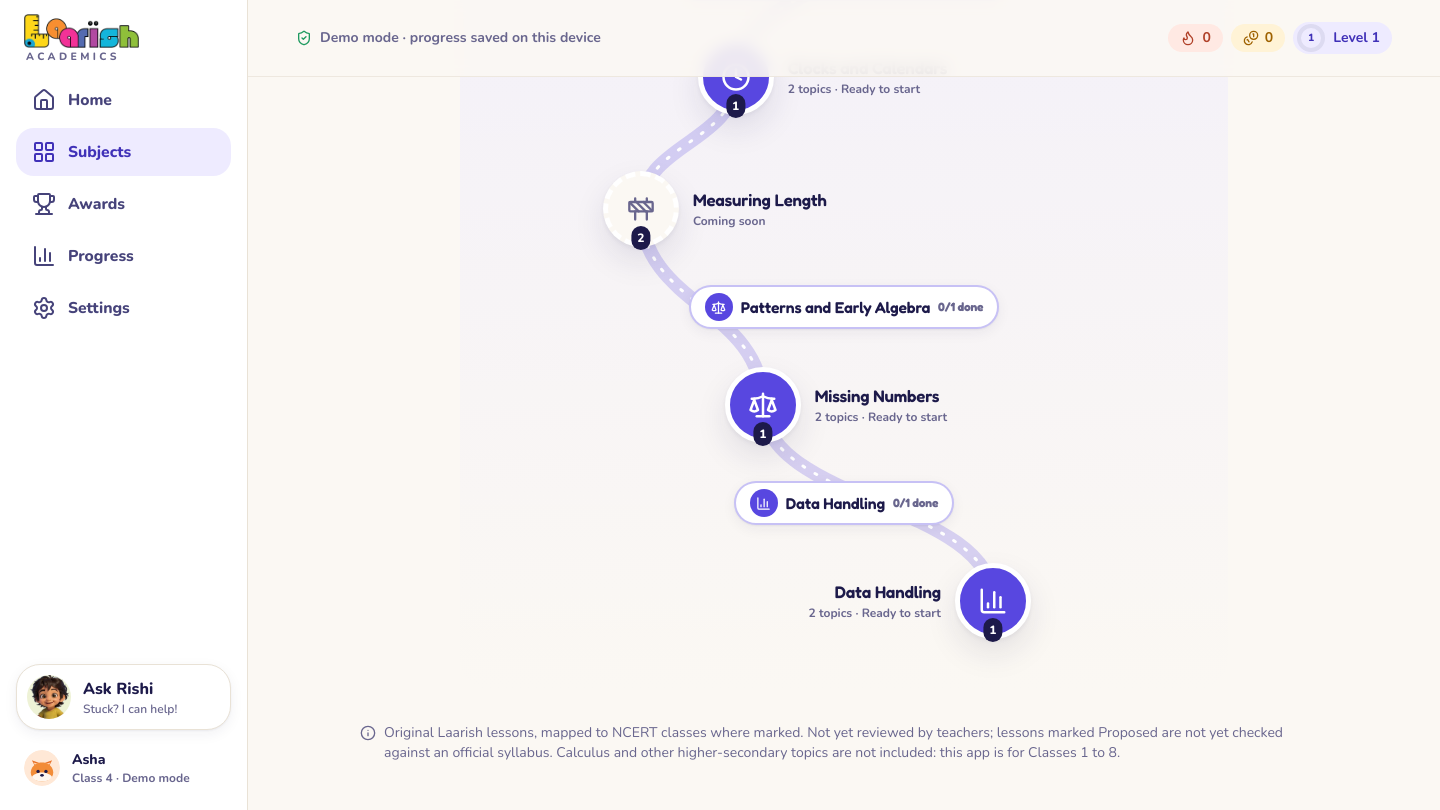
Test: mathematics: subject overview → class roadmap → lesson → topic › opens on the learner's class roadmap and goes on to a lesson and a topic
(page scrolled)
Click the button named "lesson 1: missing numbers, 2 topics · ready to start" at (763, 406), box [725,368,801,444]
(page scrolled)
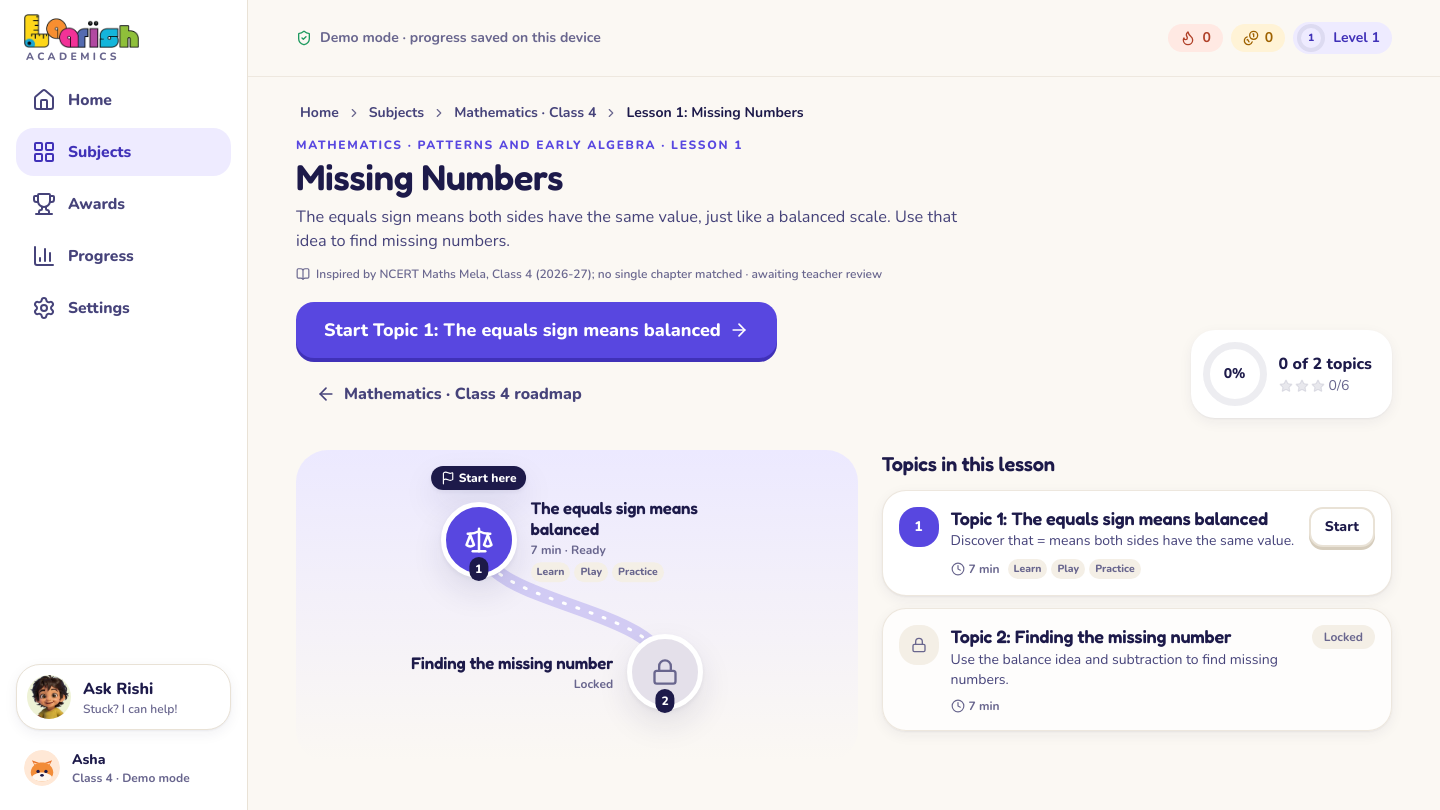
Check: the heading "Missing Numbers" is shown, box [296,155,563,198]
Click the button named "topic 1: the equals sign means balanced" at (479, 540), box [441,502,517,578]
(page scrolled)
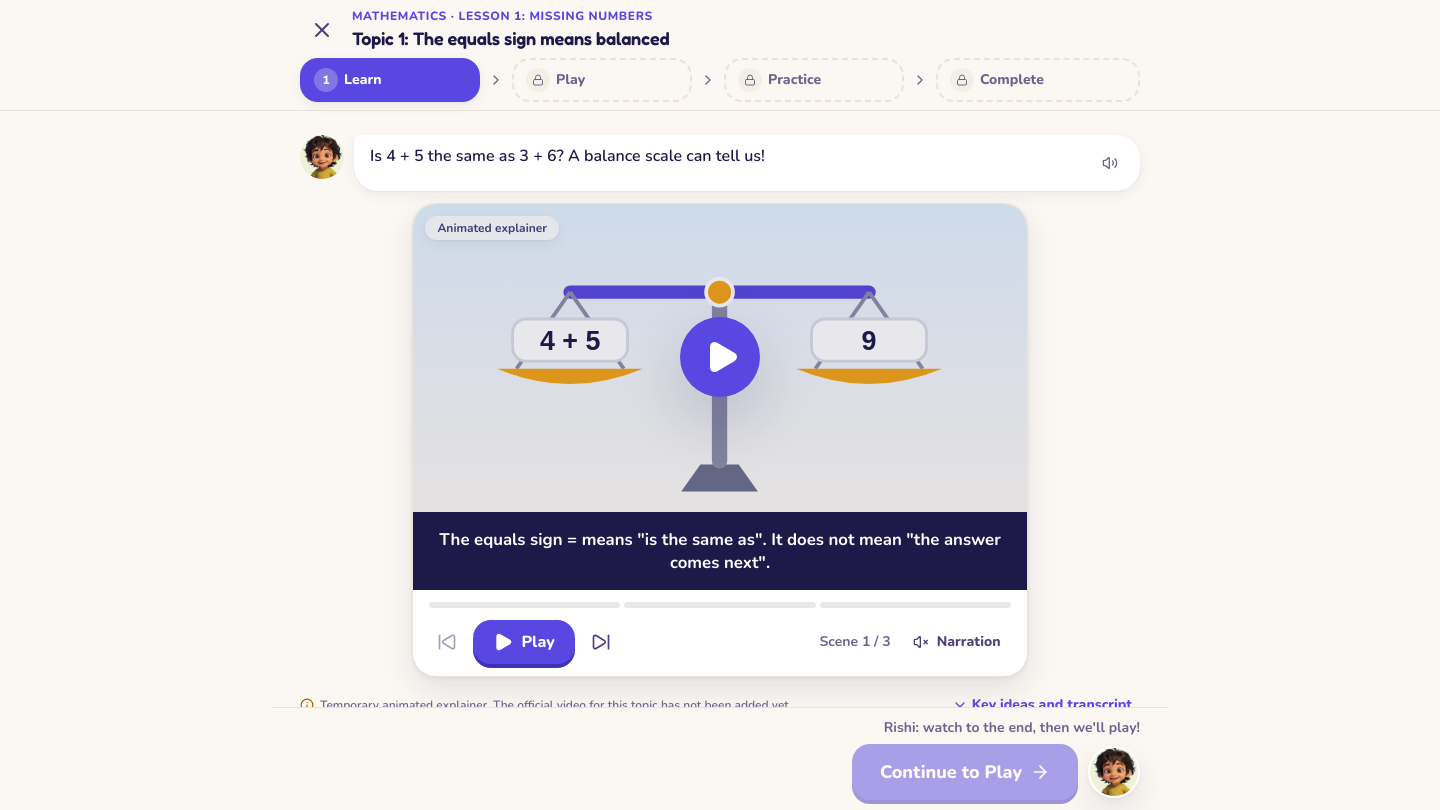
Check: the heading "Topic 1: The equals sign means balanced" is shown, box [352,27,669,49]
Check: the button with aria-label "step 1: learn, current step" is shown, box [300,58,480,102]
